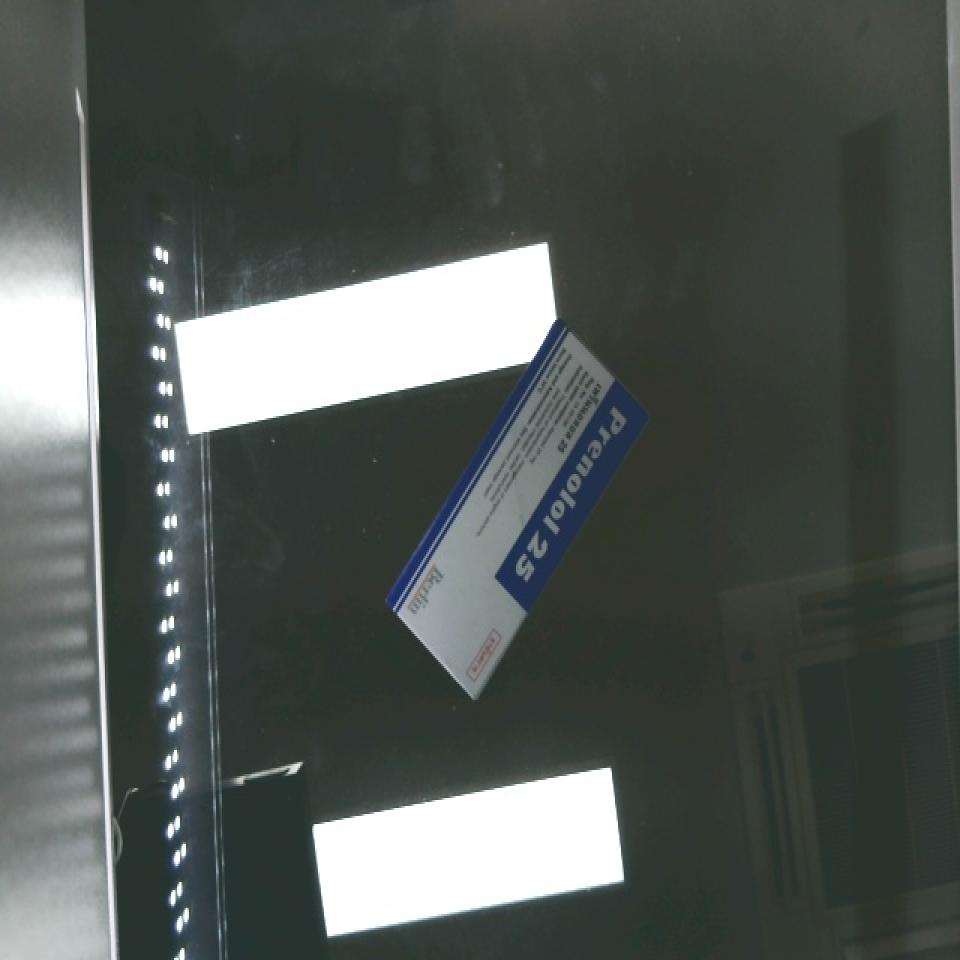medicine_box: (364, 320, 667, 700)
medicine_label_obb: (489, 379, 656, 612)
